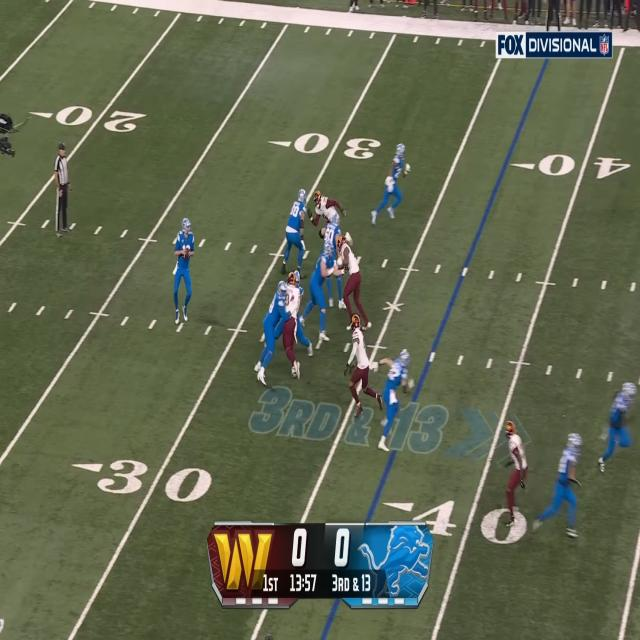Ball: (184, 248, 189, 260)
